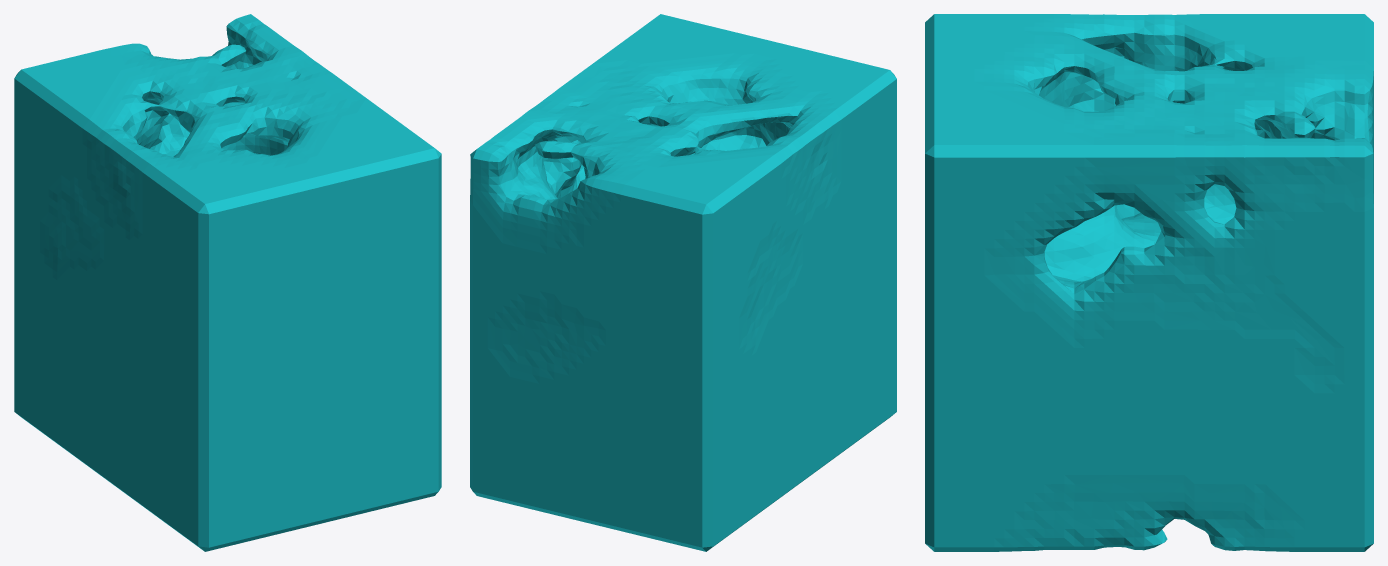
The picture shows the model from 3 angles, left to right: view 1: azimuth 30°, elevation 25°; view 2: azimuth 150°, elevation 25°; view 3: azimuth 270°, elevation 25°; orthographic projection. The views are drawn at different scales.
Visible parts, largest first — view 1: Liquid_Domain; view 2: Liquid_Domain; view 3: Liquid_Domain.
Boxes of the visible parts, x1,y1,x2,y2 form: Liquid_Domain: (14, 14, 441, 551); Liquid_Domain: (470, 14, 896, 551); Liquid_Domain: (925, 14, 1373, 551).
Bounding box in the file's own units: 79.09 × 108 × 108.
